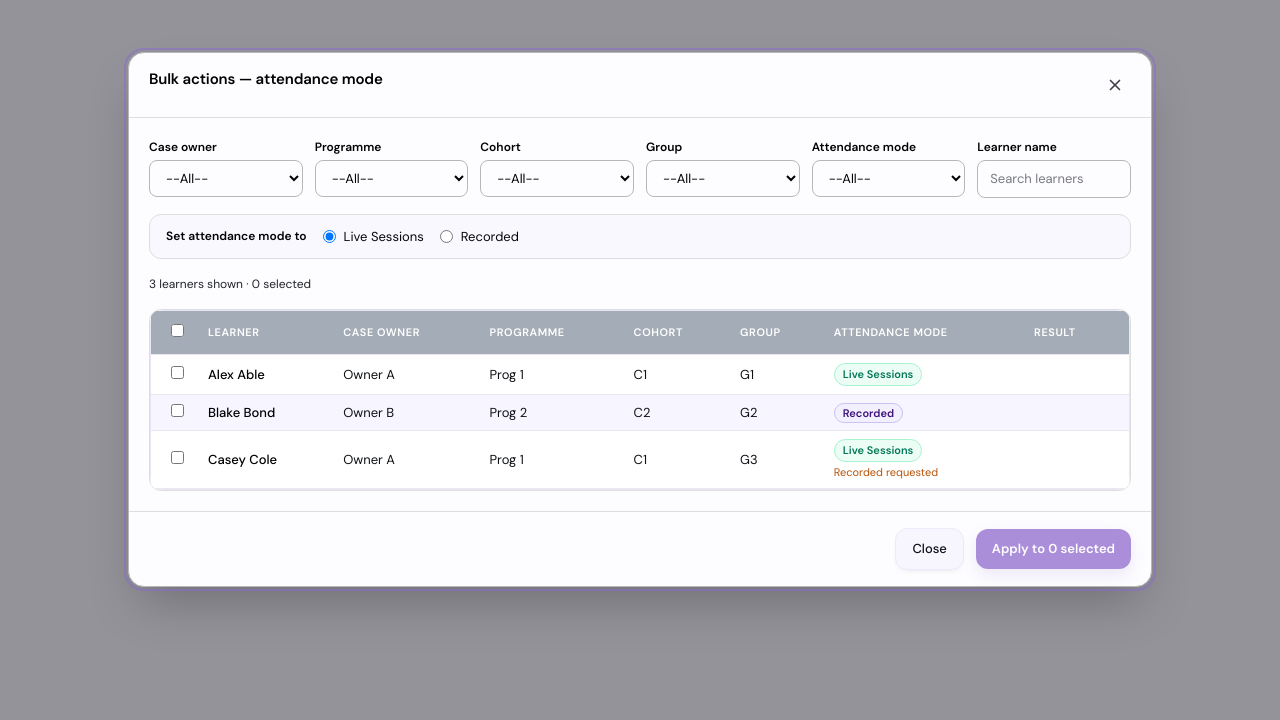
Test: BulkAttendanceModeModal › shows each learner’s current attendance mode and updates it after applying
Expected: the text "Recorded" is shown, x1=834 y1=402 x2=903 y2=422
Expected: the text "Live Sessions" in the row of "Alex Able" is shown, x1=843 y1=367 x2=913 y2=381
Click the radio button labelled "Recorded" at coordinates (446, 236), box x1=440 y1=230 x2=453 y2=243
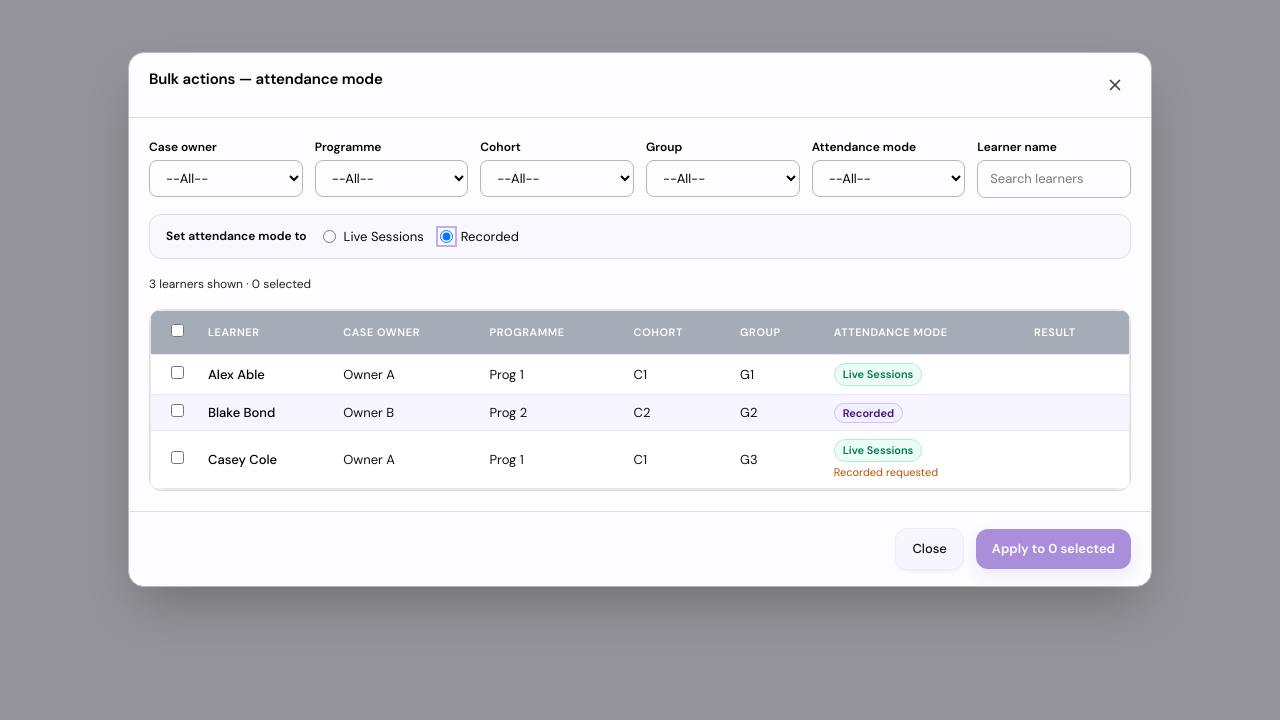
Click the checkbox named "Select Alex Able" at coordinates (178, 372), box x1=171 y1=366 x2=184 y2=378
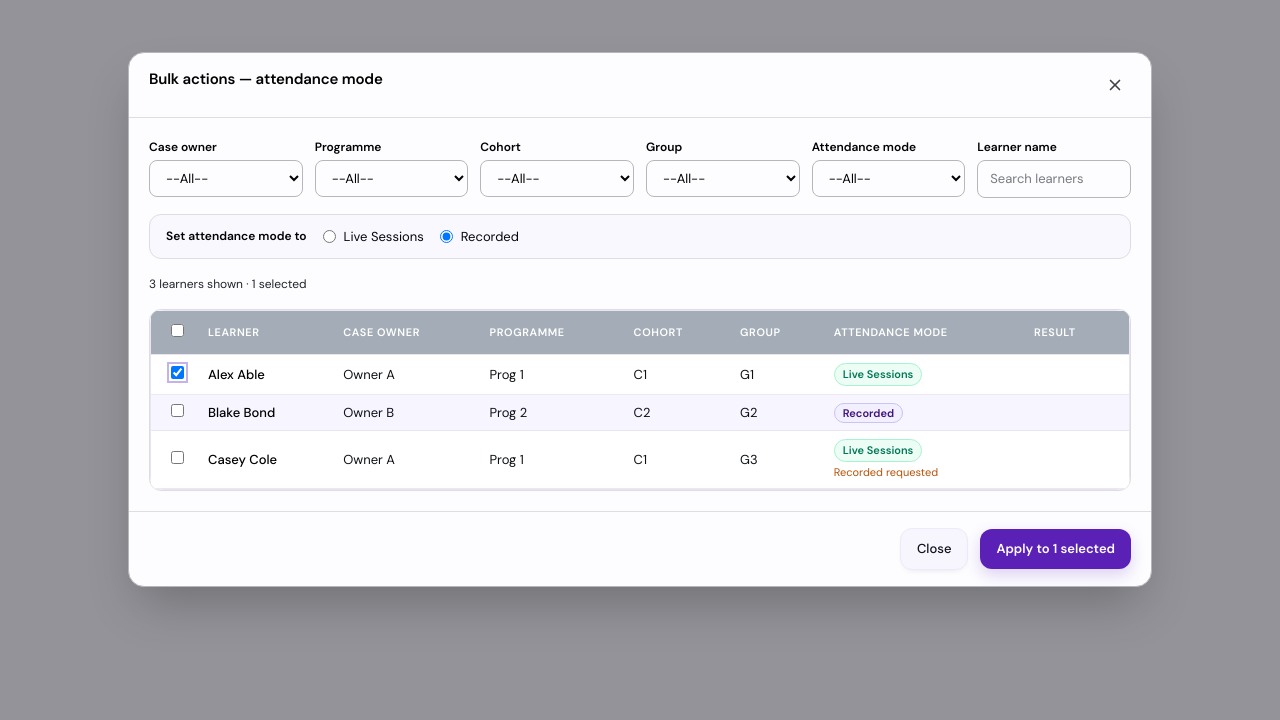
Click the button "Apply to 1 selected" at coordinates (1056, 549), box x1=980 y1=529 x2=1131 y2=568
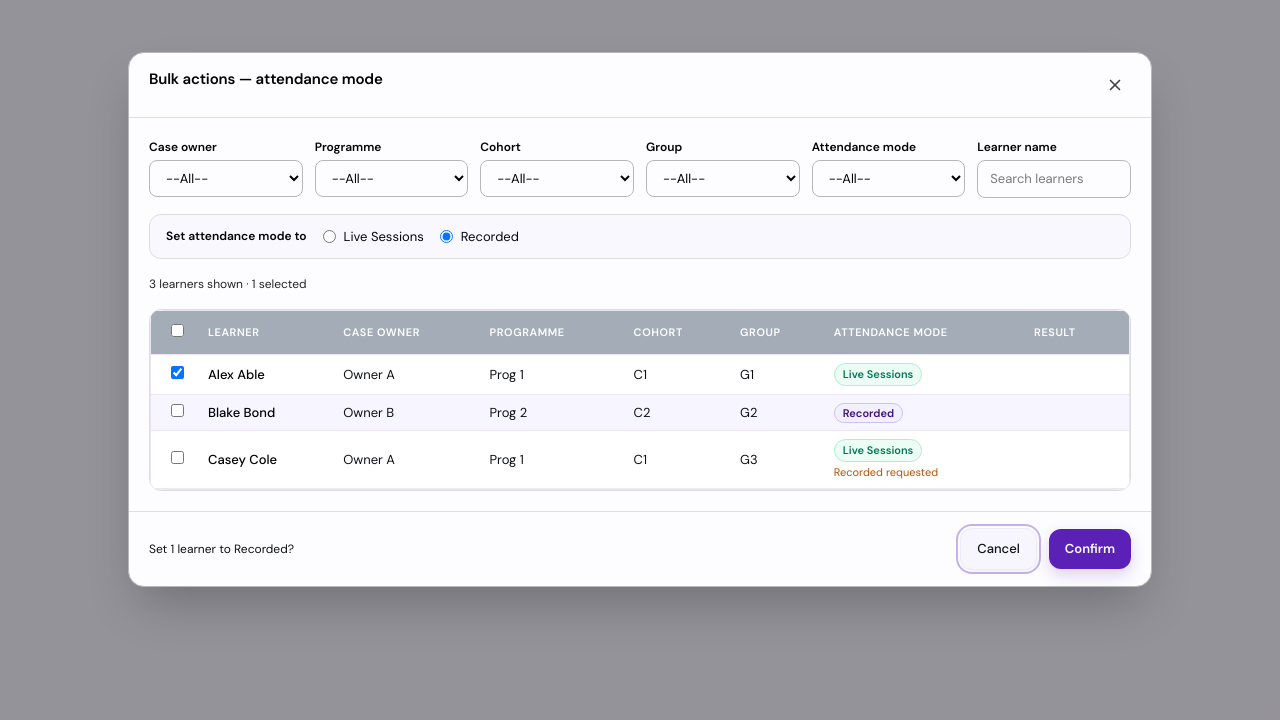
Click the button "Confirm" at coordinates (1090, 549), box x1=1049 y1=529 x2=1131 y2=568
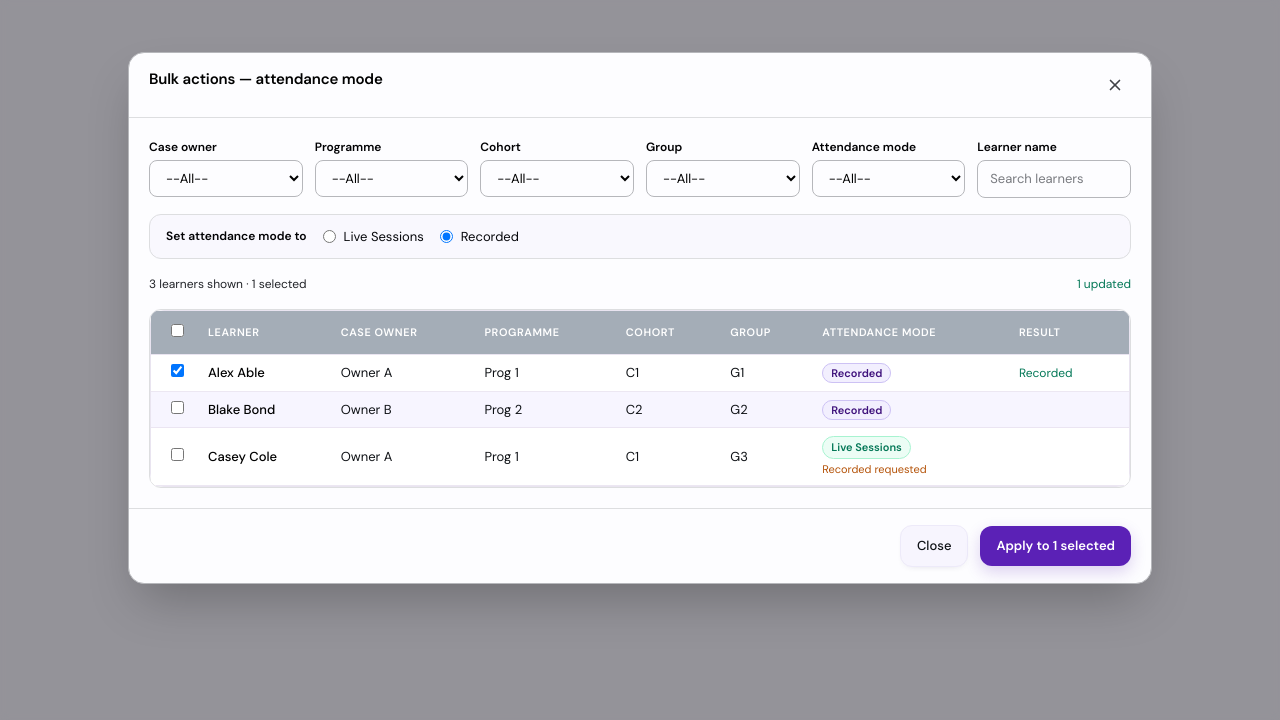
Expected: the text "Recorded" is shown 2 times, x1=822 y1=363 x2=892 y2=383; x1=1007 y1=355 x2=1129 y2=392
